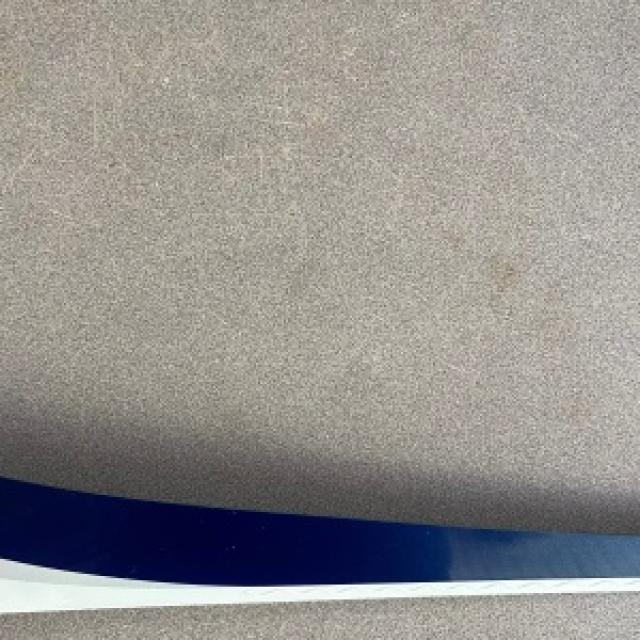healthy: (0, 0, 638, 529), (0, 593, 638, 638)
